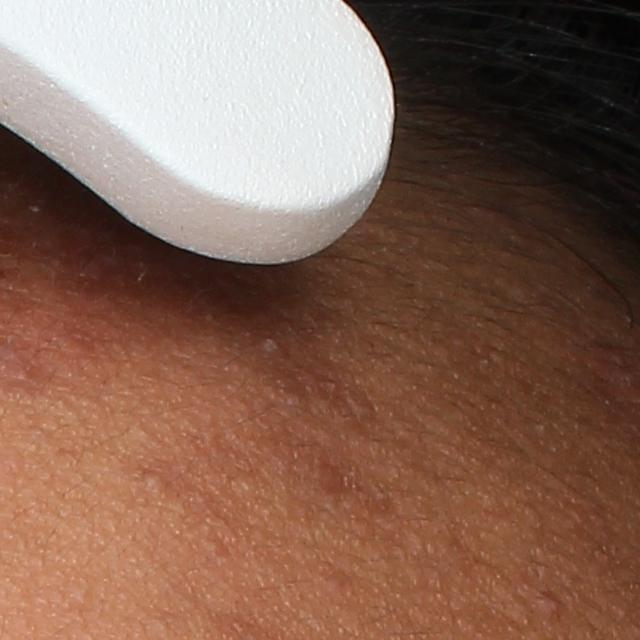comedo: (539, 590, 567, 624), (139, 470, 171, 493)
